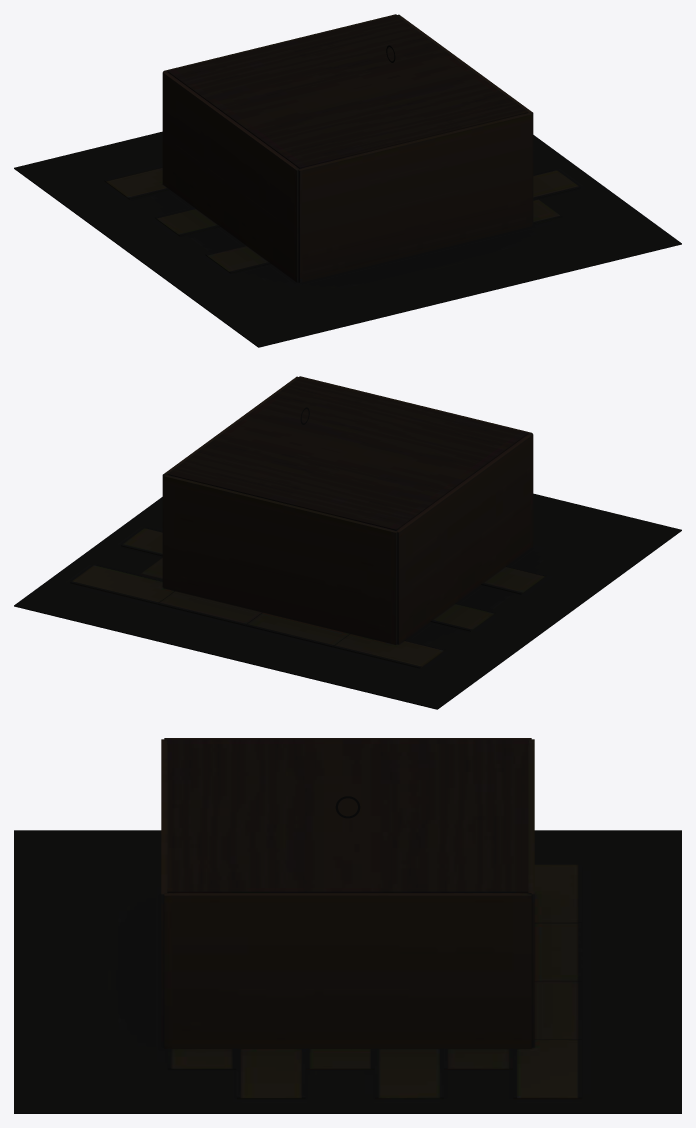
Rendered from room.glb.
3 views of the same model, one above another, from view 1: azimuth 30°, elevation 25°; view 2: azimuth 150°, elevation 25°; view 3: azimuth 270°, elevation 25° (orthographic). The views are drawn at different scales.
Parts seen in each view (by area): view 1: room; view 2: room; view 3: room.
Boxes of the visible parts, <box> form: room: <box>14,14,681,347</box>; room: <box>14,376,681,709</box>; room: <box>14,738,681,1113</box>.
Bounding box in the file's own units: 870 × 295 × 870.
2 materials, 2 textured.
